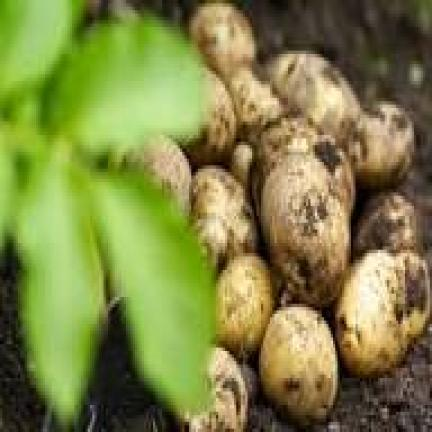potato: (259, 118, 356, 304), (335, 250, 430, 375), (261, 307, 335, 422), (268, 51, 358, 138), (191, 165, 254, 263), (346, 101, 412, 186), (218, 253, 272, 354), (184, 348, 245, 429), (122, 138, 189, 209), (191, 3, 254, 71), (187, 71, 234, 162), (356, 192, 418, 253), (230, 68, 281, 135), (230, 142, 252, 189)
